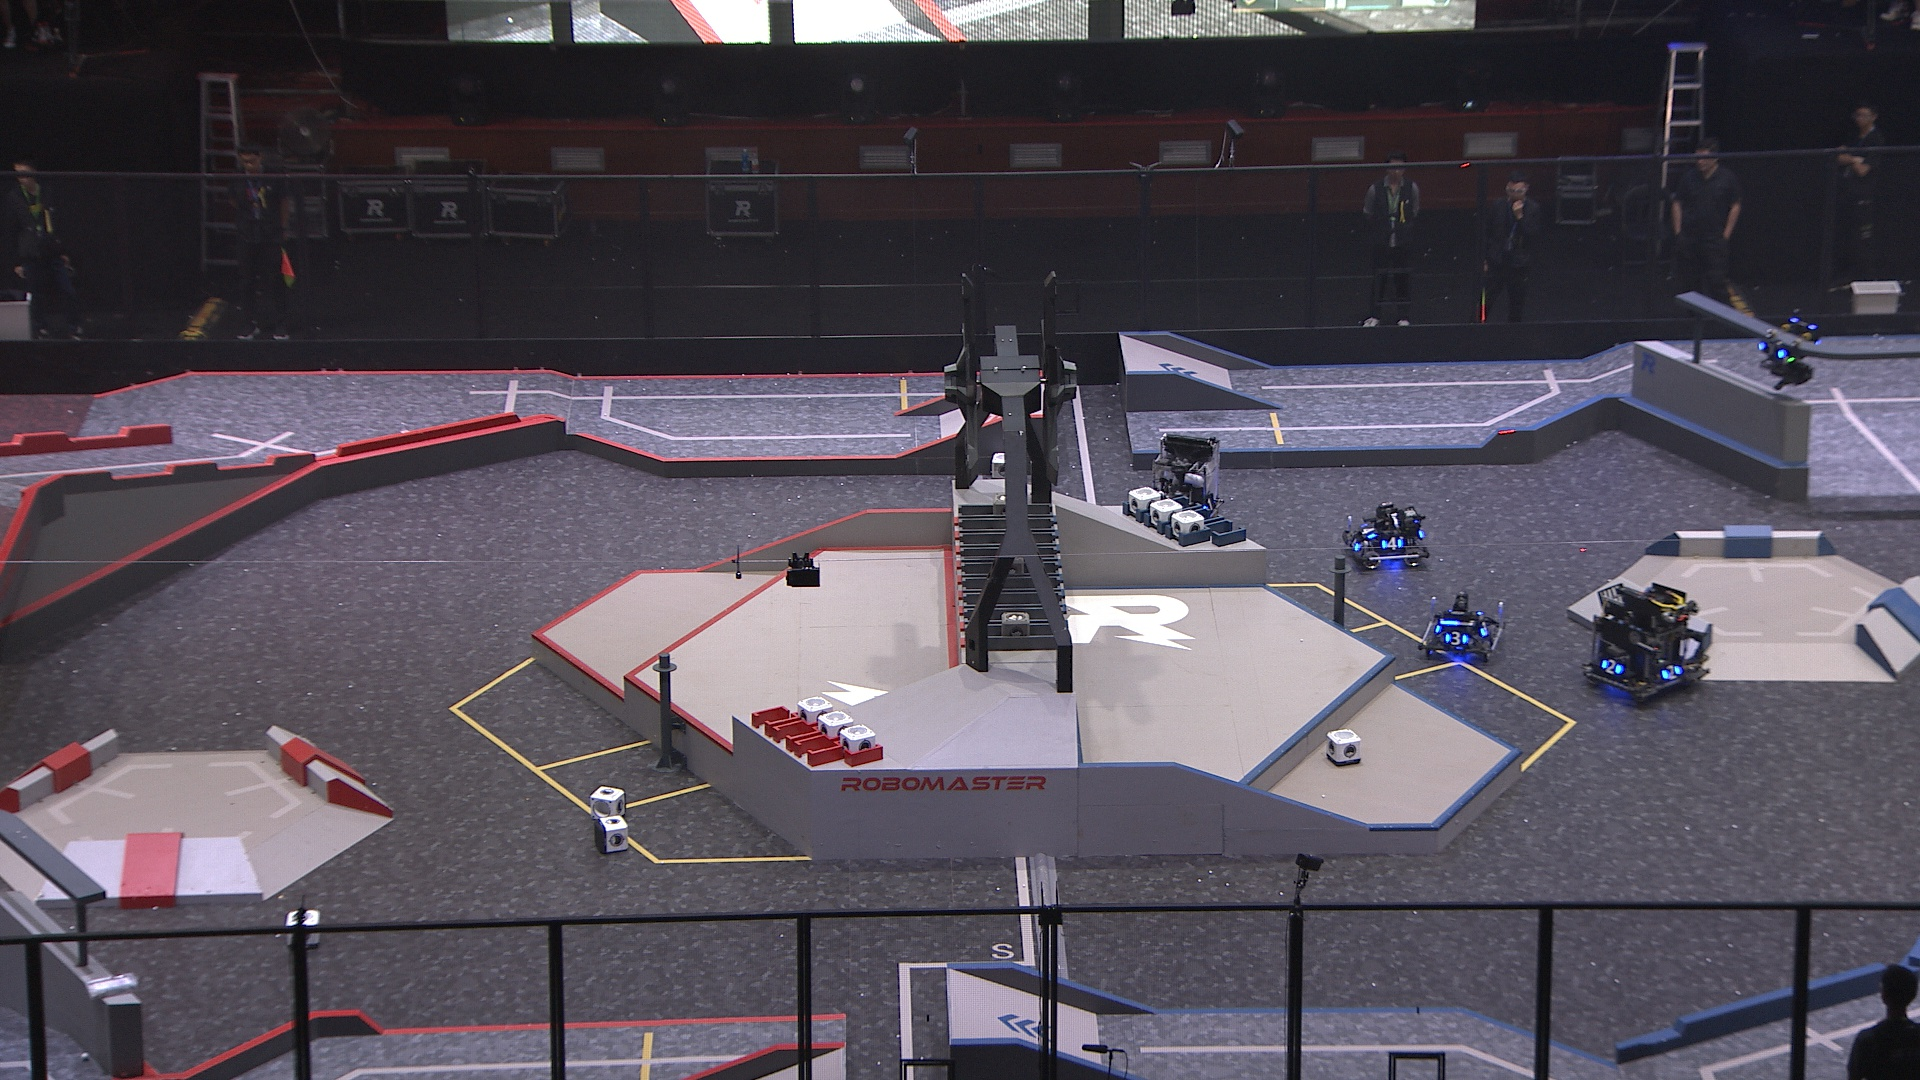armor: (1755, 338, 1789, 361), (1660, 661, 1685, 683), (1596, 657, 1623, 676), (1357, 520, 1378, 543), (1444, 628, 1468, 647), (1379, 534, 1404, 553), (1201, 495, 1218, 516), (1480, 618, 1491, 638)
car: (1580, 578, 1721, 702), (1127, 431, 1226, 538), (1338, 498, 1433, 572), (1418, 589, 1509, 665)
watcher: (1750, 305, 1822, 394)
